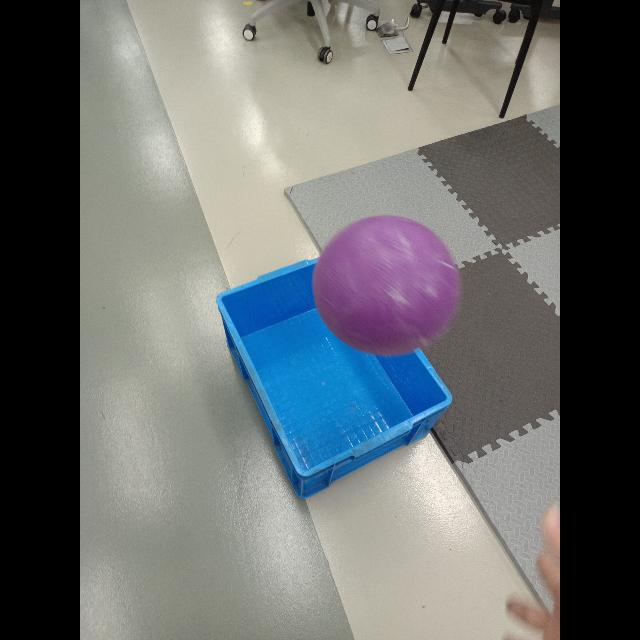P: (313, 215, 457, 358)
